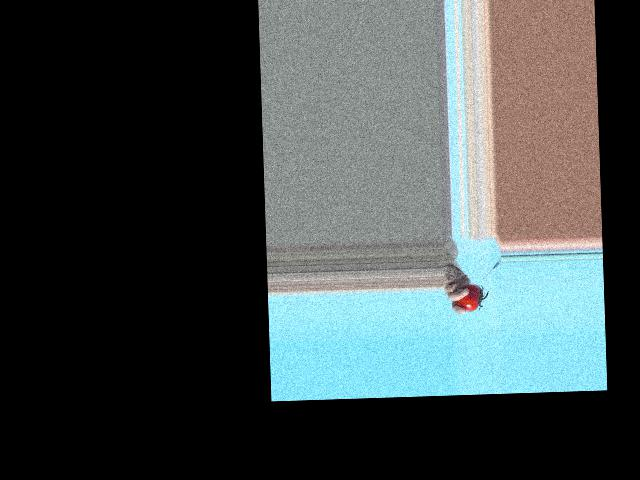tomato: (455, 284, 483, 312)
